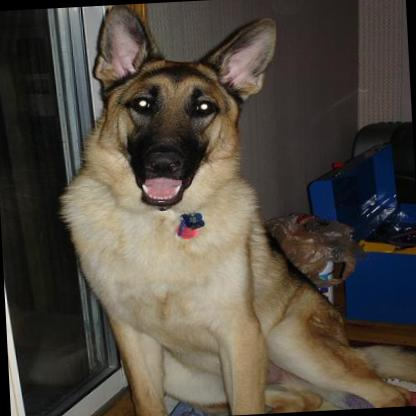German_shepherd: (46, 0, 416, 416)
